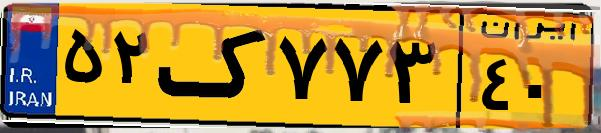0: (525, 38, 570, 115)
2: (110, 28, 158, 98)
3: (385, 28, 445, 110)
4: (475, 38, 525, 113)
5: (57, 26, 110, 100)
7: (270, 28, 330, 110), (330, 28, 385, 110)
ک: (158, 12, 270, 120)
